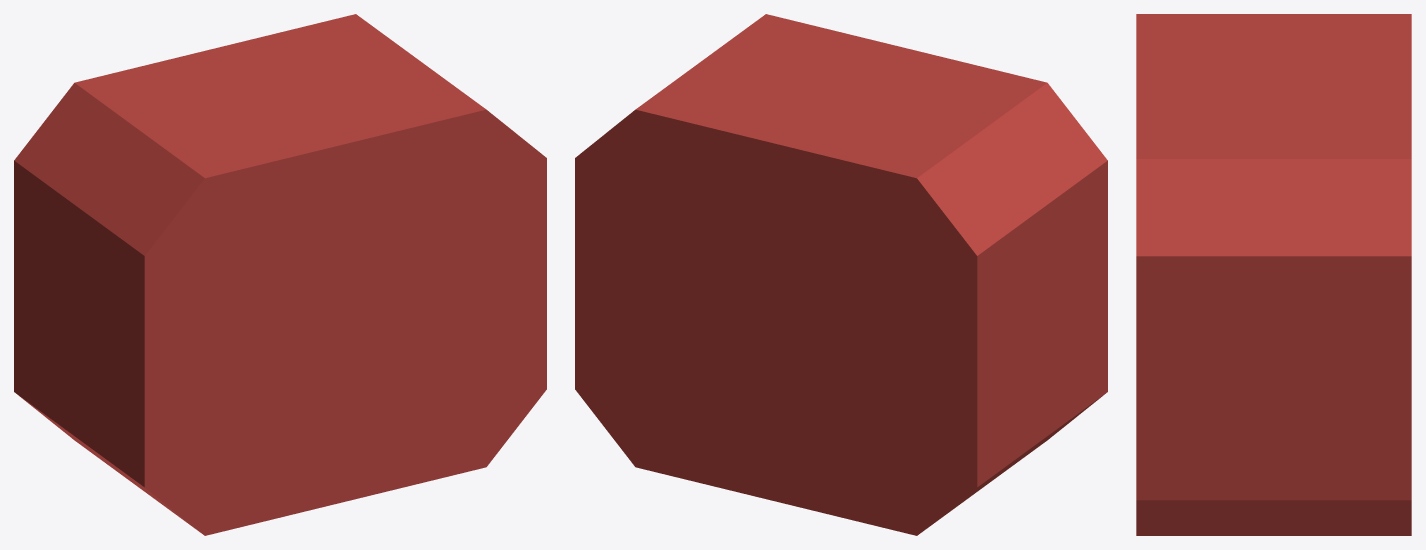
File: single_piston_lod2.glb
The picture shows the model from 3 angles, left to right: view 1: azimuth 30°, elevation 25°; view 2: azimuth 150°, elevation 25°; view 3: azimuth 270°, elevation 25°; orthographic projection. The views are drawn at different scales.
Parts seen in each view (by area): view 1: single_piston_lod2; view 2: single_piston_lod2; view 3: single_piston_lod2.
Boxes of the visible parts, bbox=[...] form: single_piston_lod2: bbox=[14, 14, 546, 535]; single_piston_lod2: bbox=[575, 14, 1107, 535]; single_piston_lod2: bbox=[1136, 14, 1411, 535].
Size of the model in its own units: 0.08 by 0.068 by 0.045.
